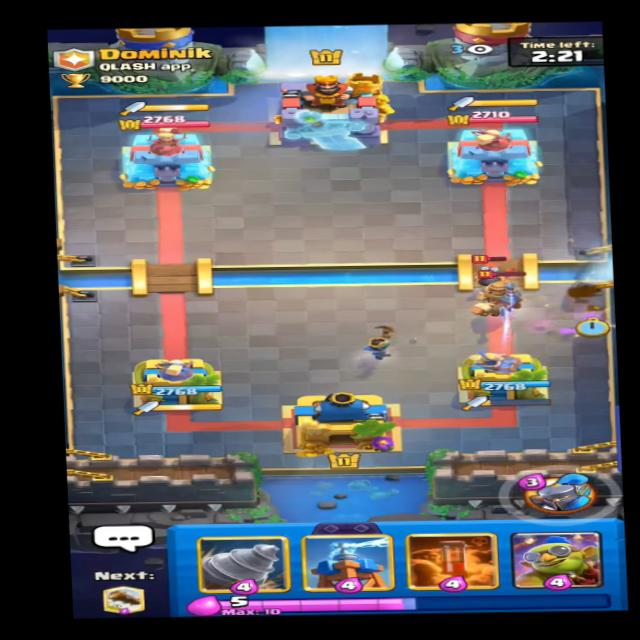bomber: (471, 254, 513, 287)
prince: (469, 265, 527, 320)
